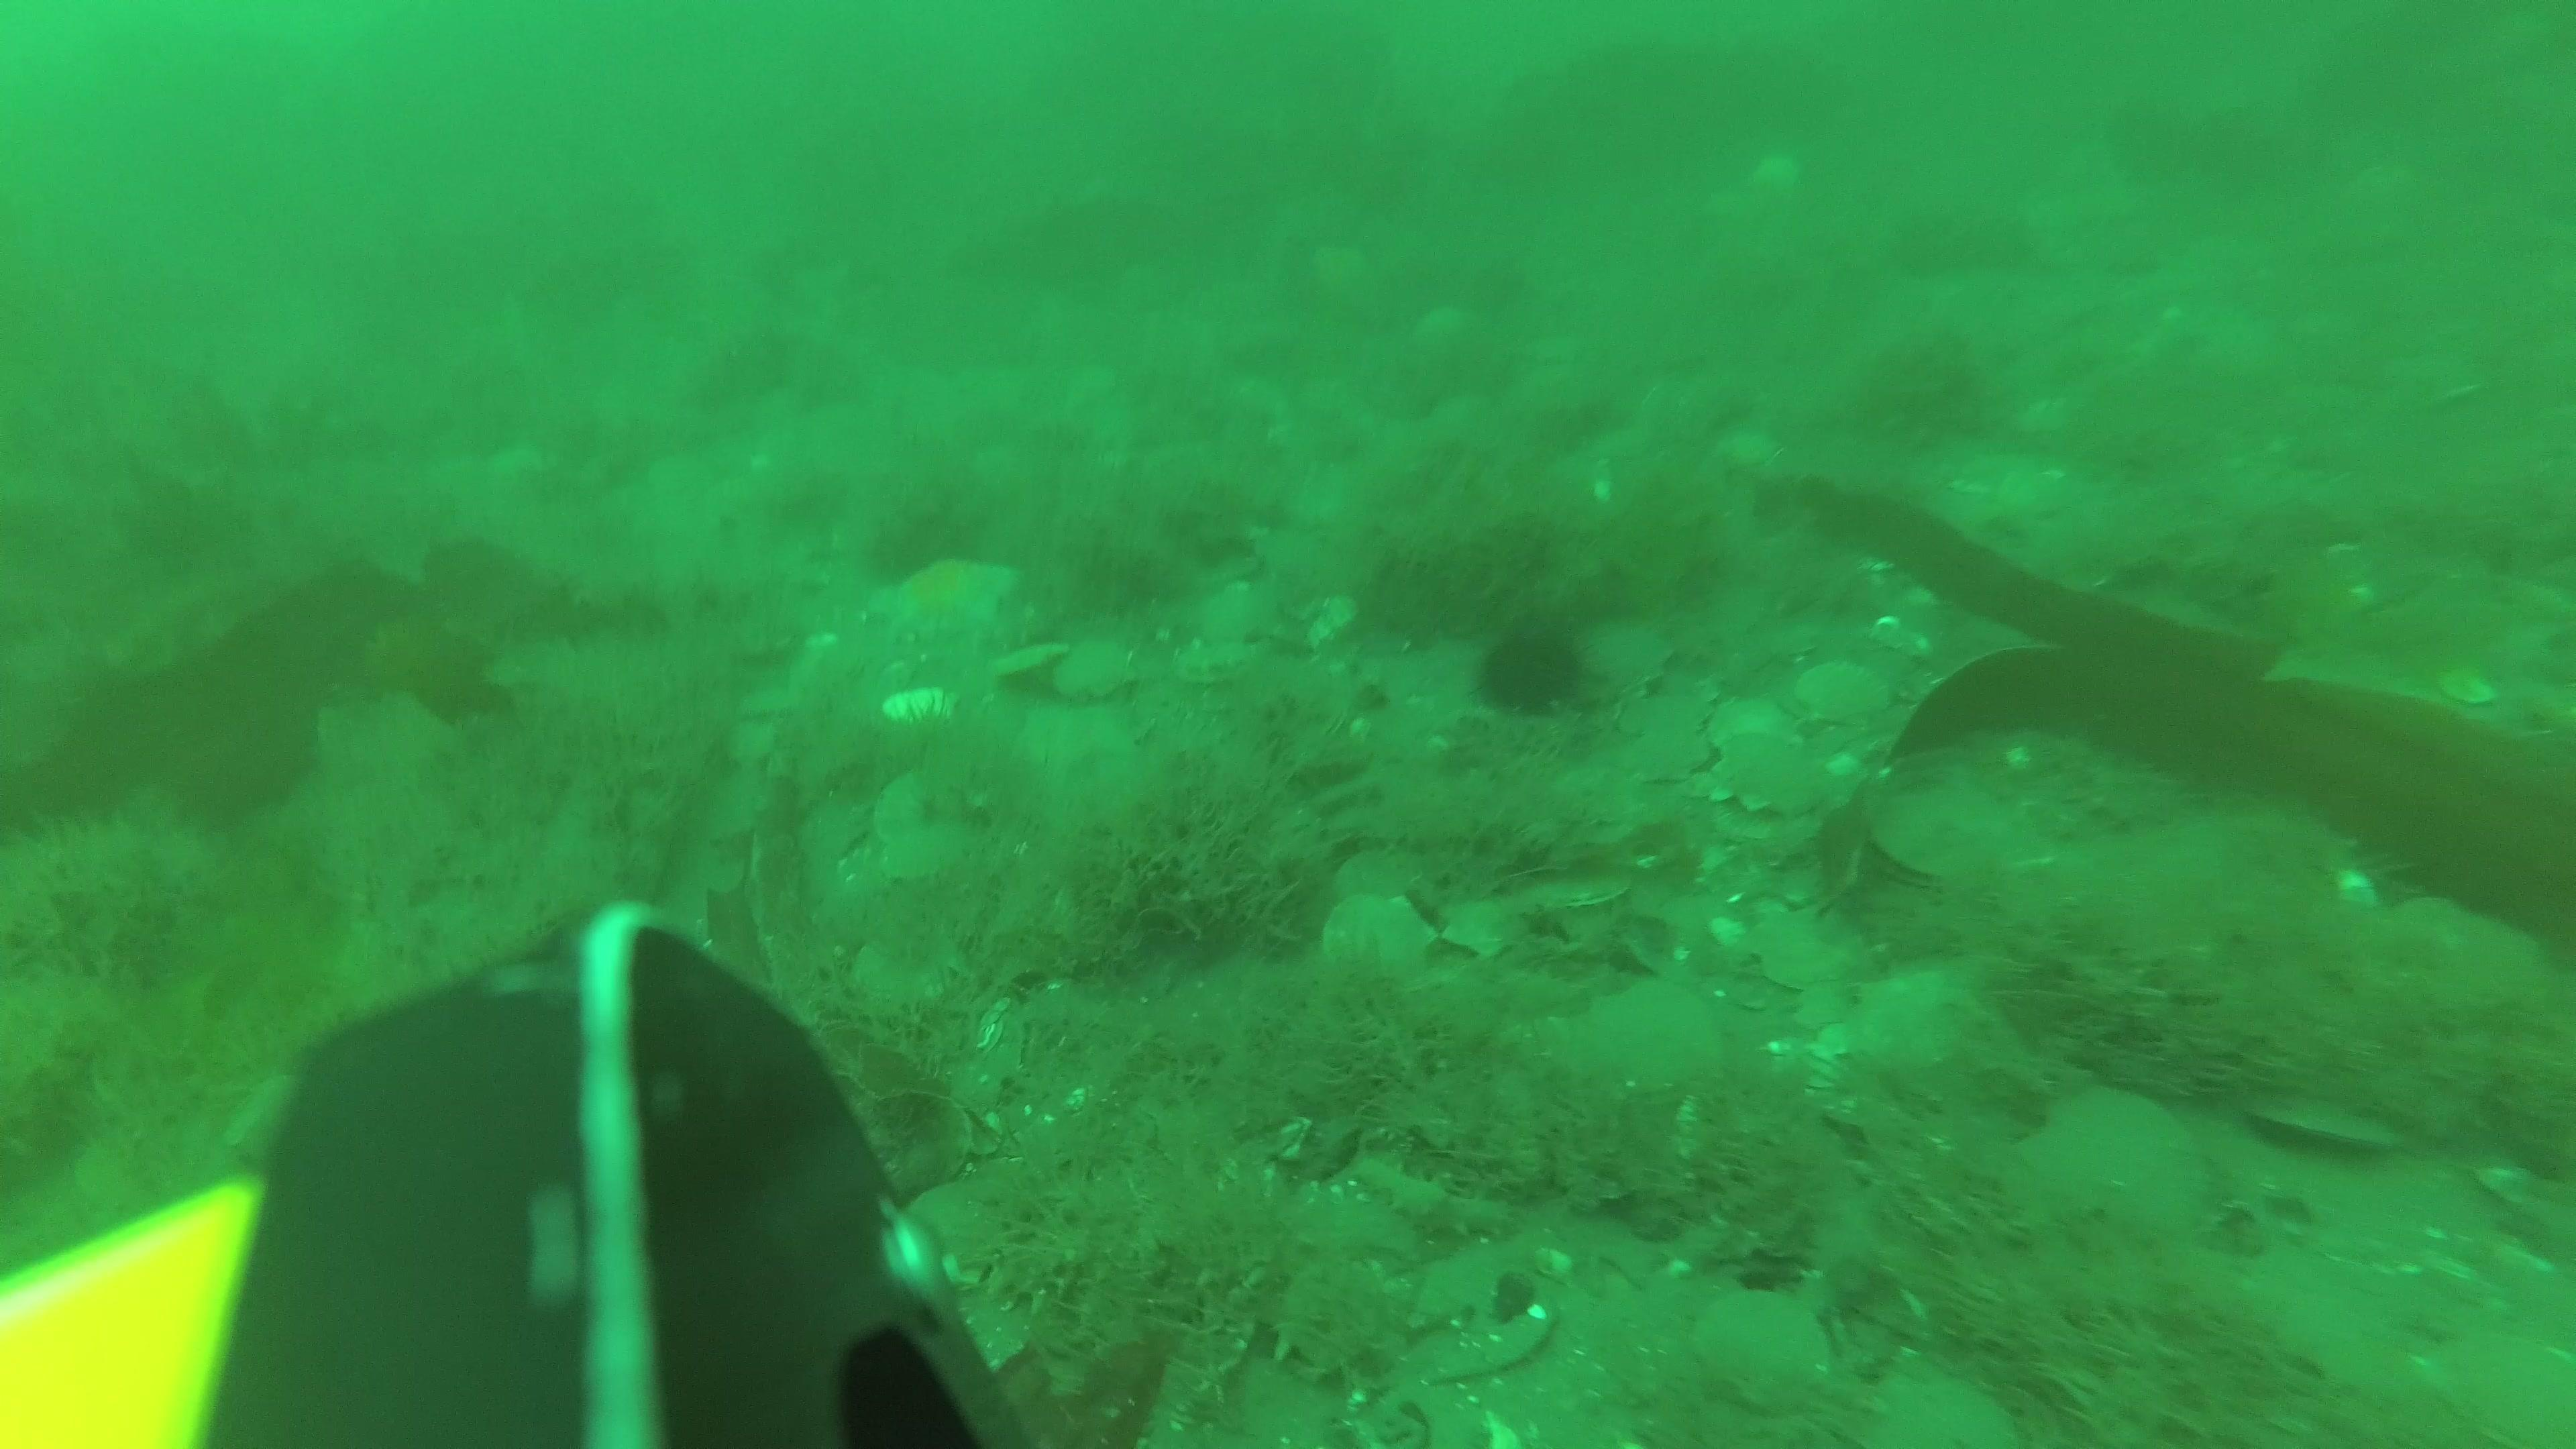echinus: (1465, 616, 1591, 725)
scallop: (2020, 1072, 2213, 1256), (1557, 978, 1741, 1102), (1697, 1288, 1840, 1422), (1838, 968, 1996, 1085), (2431, 1330, 2576, 1449), (2242, 1072, 2413, 1166), (1868, 791, 2020, 895), (1313, 886, 1444, 991), (1870, 1364, 2015, 1449), (851, 922, 973, 1016), (1711, 731, 1836, 821), (1736, 909, 1865, 994), (1330, 840, 1440, 915), (1442, 881, 1537, 962), (1790, 655, 1898, 725), (872, 766, 966, 847), (1589, 621, 1679, 692), (1527, 869, 1644, 922), (1704, 695, 1805, 755), (1051, 633, 1141, 701), (1614, 688, 1711, 748), (876, 826, 973, 886), (1196, 575, 1283, 642), (1168, 639, 1270, 694), (1614, 732, 1711, 786), (1276, 594, 1362, 653), (883, 685, 957, 729), (989, 642, 1069, 683), (718, 718, 780, 770), (734, 686, 807, 720)
starfish: (883, 550, 1024, 640)
